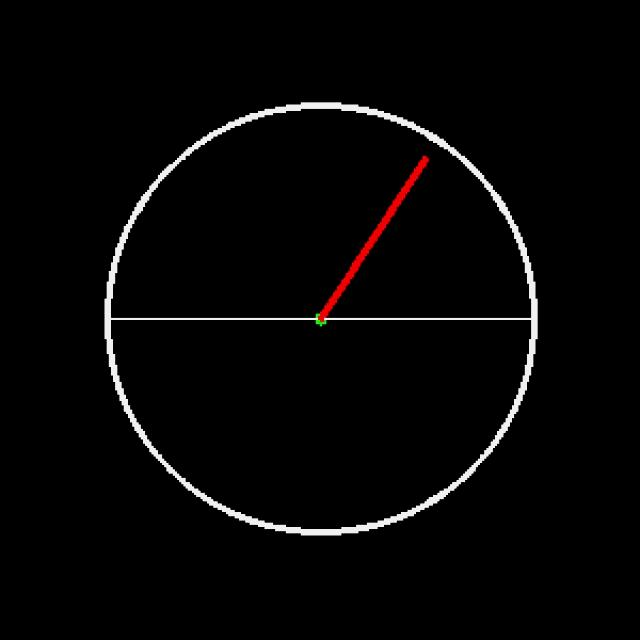Needle_Tip: (373, 134, 469, 202)
Needle_base: (294, 283, 355, 349)
